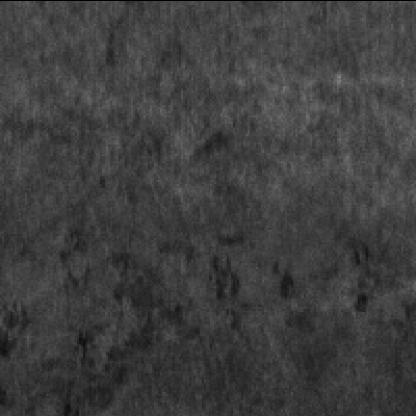rolled-in_scale: (50, 254, 222, 398), (204, 233, 378, 331), (0, 298, 33, 367)
